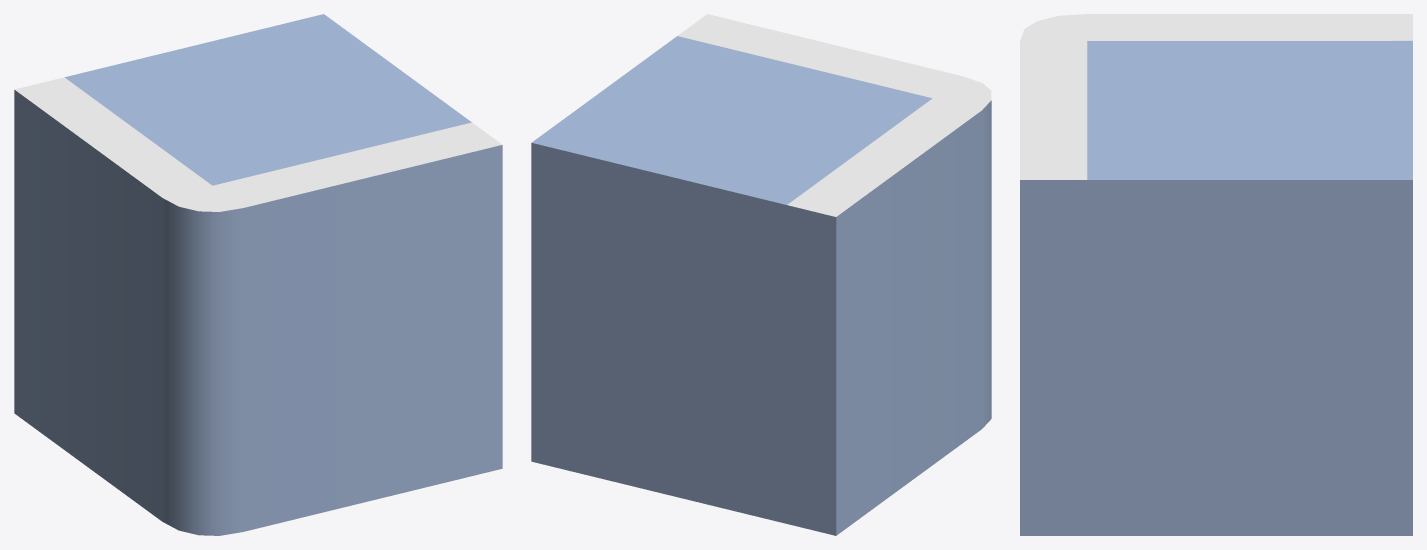
File: MIKOMANI.fbx
3 renders of one model, left to right at view 1: azimuth 30°, elevation 25°; view 2: azimuth 150°, elevation 25°; view 3: azimuth 270°, elevation 25°, orthographic. The views are drawn at different scales.
Visible parts, largest first — view 1: Box002; view 2: Box002; view 3: Box002.
Boxes of the visible parts, x1,y1,x2,y2 form: Box002: (14,14,502,535); Box002: (531,14,991,535); Box002: (1020,14,1412,535).
Bounding box in the file's own units: 127 × 127 × 127.
